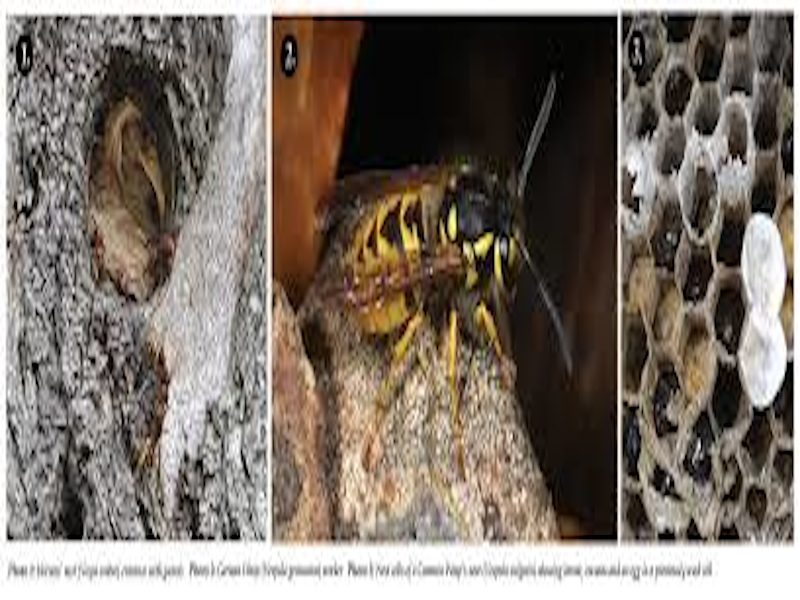chax: (286, 72, 598, 457)
